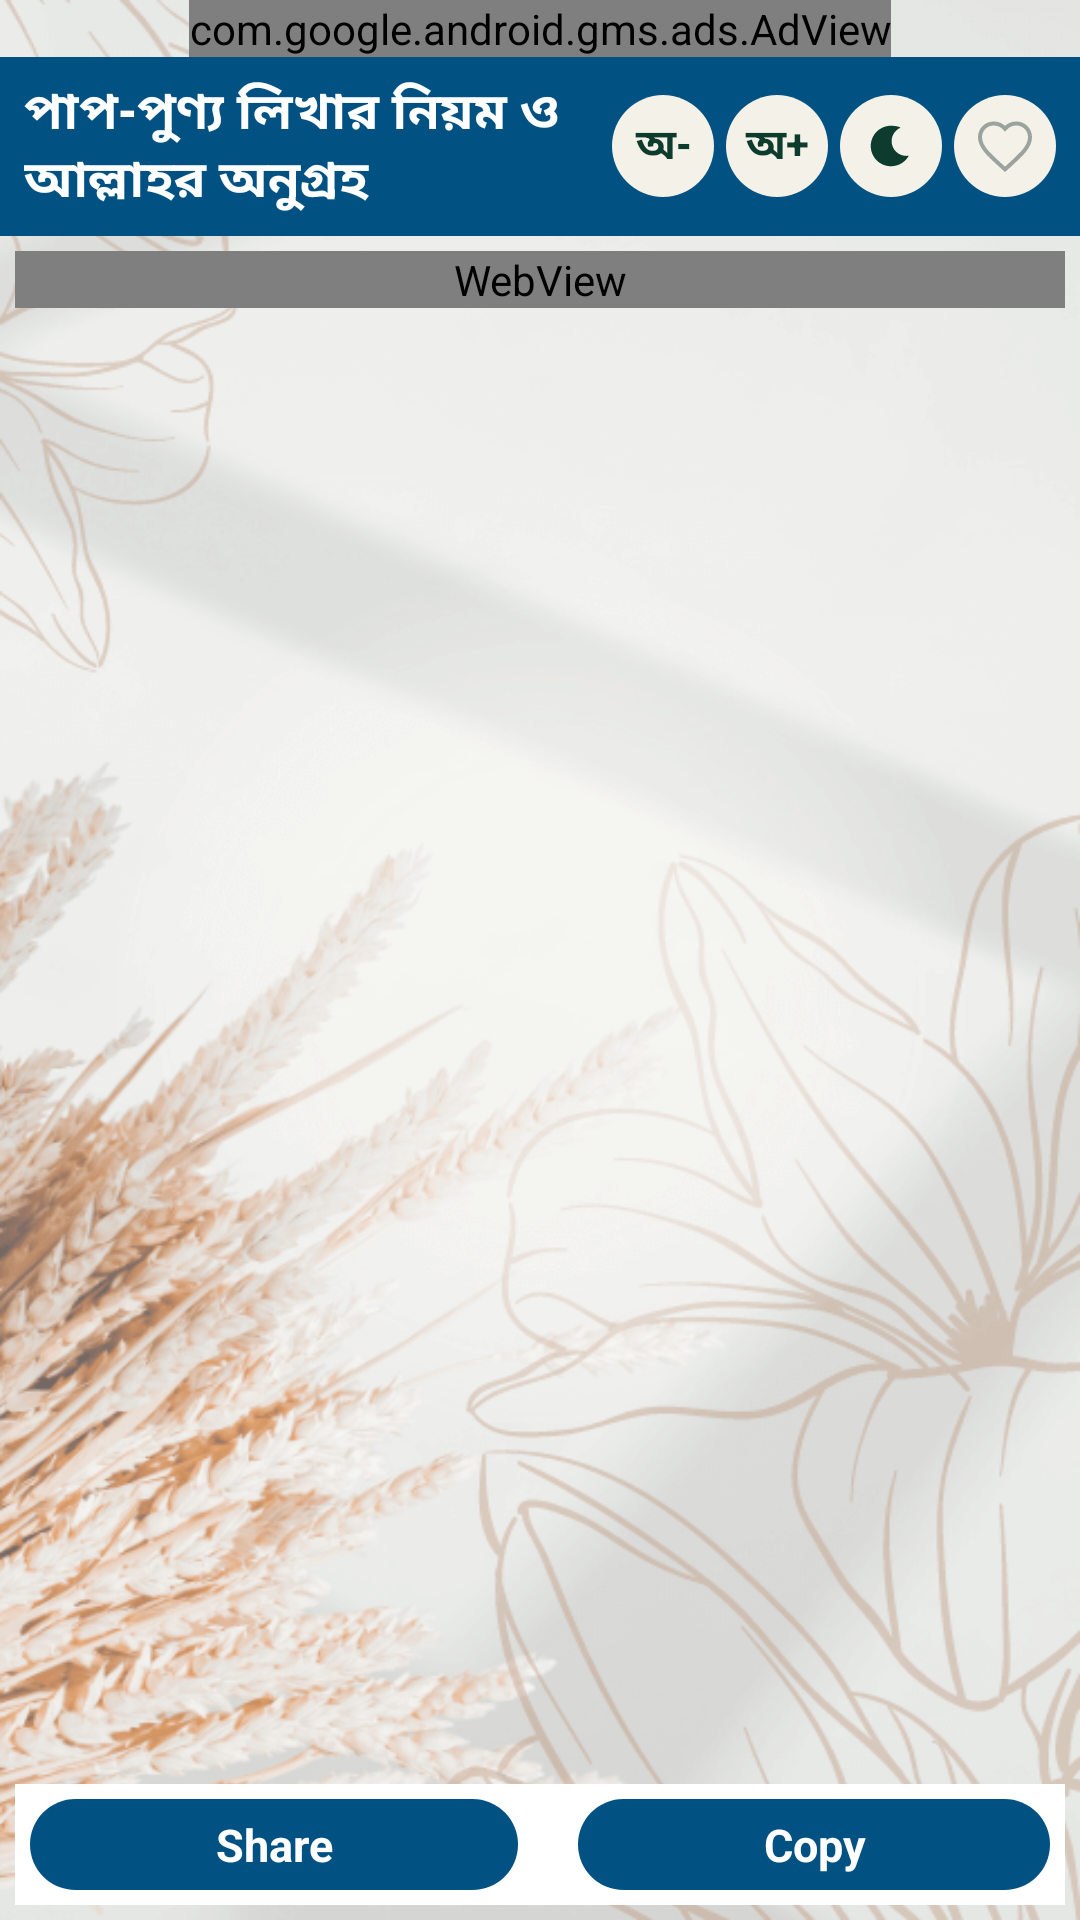

Where to tap for icons on this 1080×1920 app screen, as (x=x, y=y):
heart: (x=1005, y=146)
moon: (x=891, y=146)
